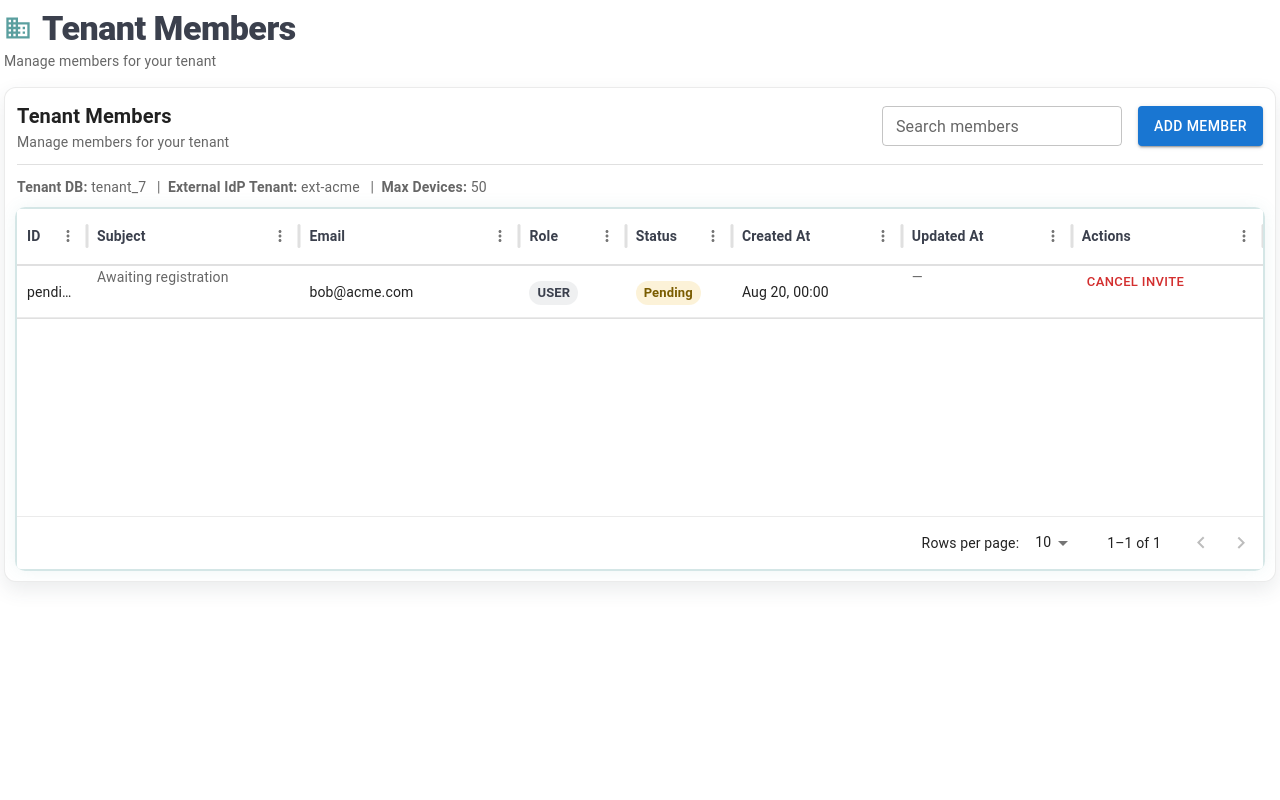
Test case: TenantsAdministrator — pending invites in the members grid › cancels a pending invite via cancelPendingInvite, not deleteTenantMember
This screenshot has width=1280, height=800.
Click the button "Cancel Invite".
click(1136, 282)  # box x1=1082 y1=267 x2=1189 y2=298
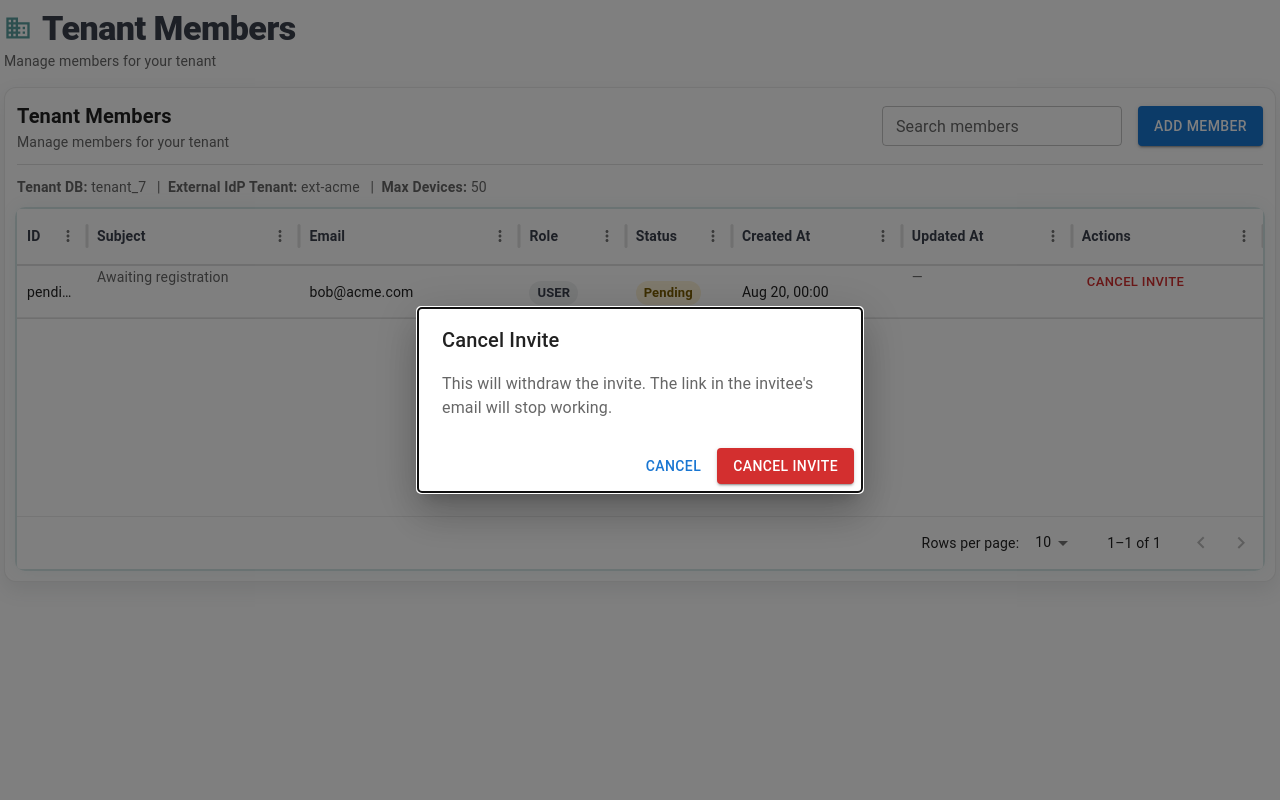
Expected: the text "withdraw the invite" is shown, x1=442 y1=374 x2=813 y2=417
Click the button "Cancel Invite".
click(786, 466)  # box x1=717 y1=448 x2=854 y2=484
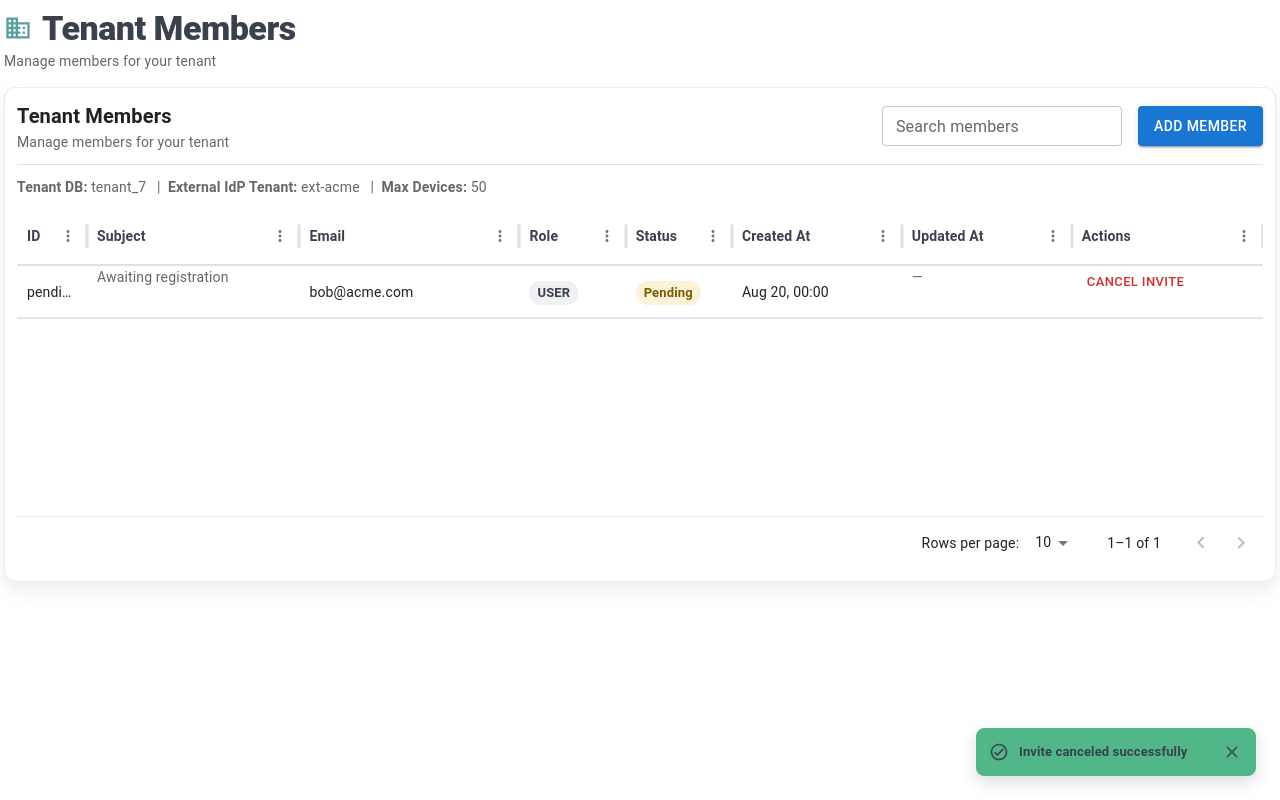
Expected: the text "Invite canceled successfully" is shown, x1=1019 y1=743 x2=1207 y2=761
